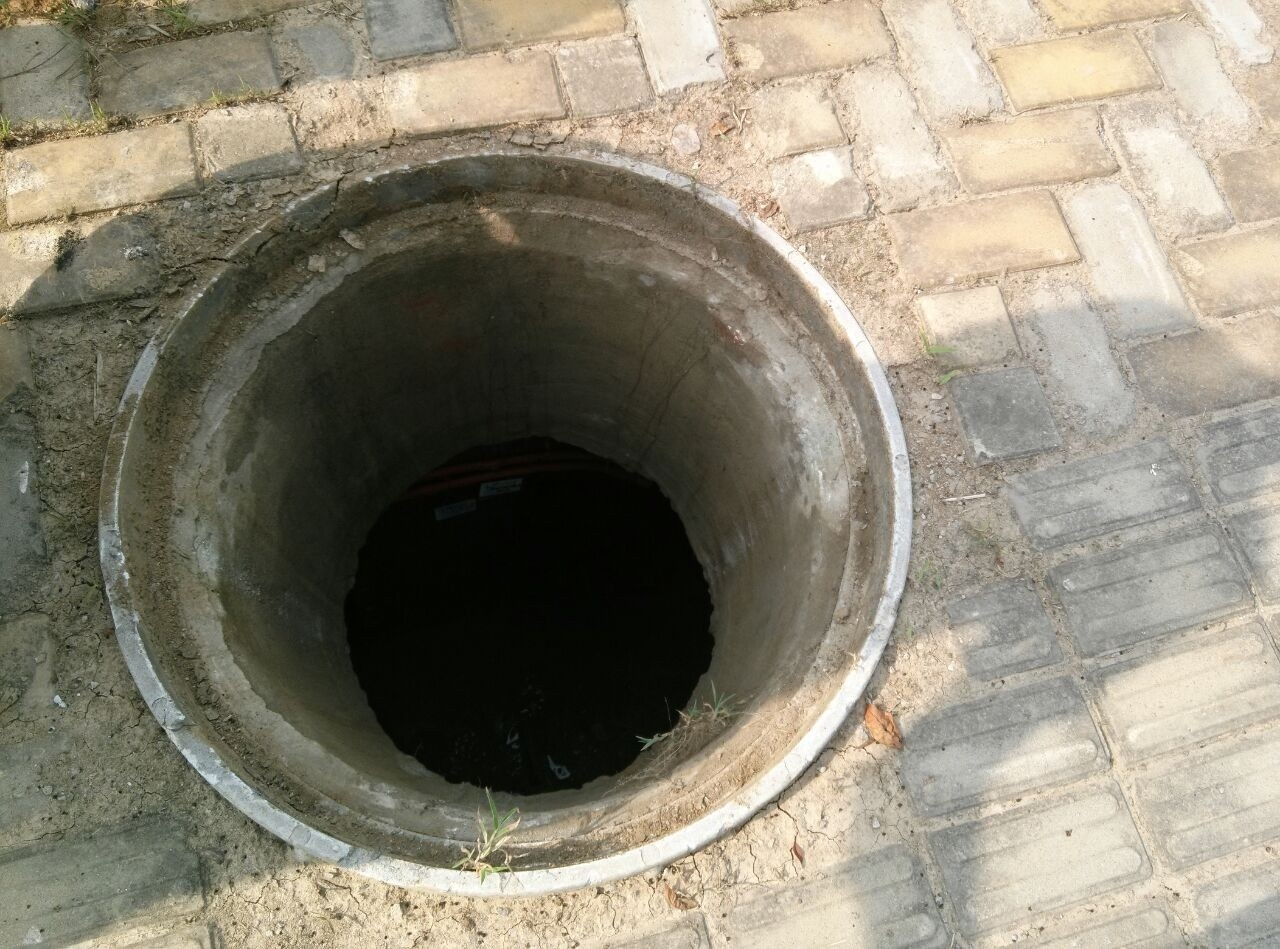lose: (101, 145, 913, 893)
